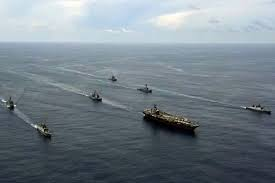tau_muctieu: (141, 106, 200, 131), (33, 120, 51, 139), (247, 103, 271, 115), (87, 90, 103, 101), (139, 85, 154, 94), (108, 72, 119, 83)
